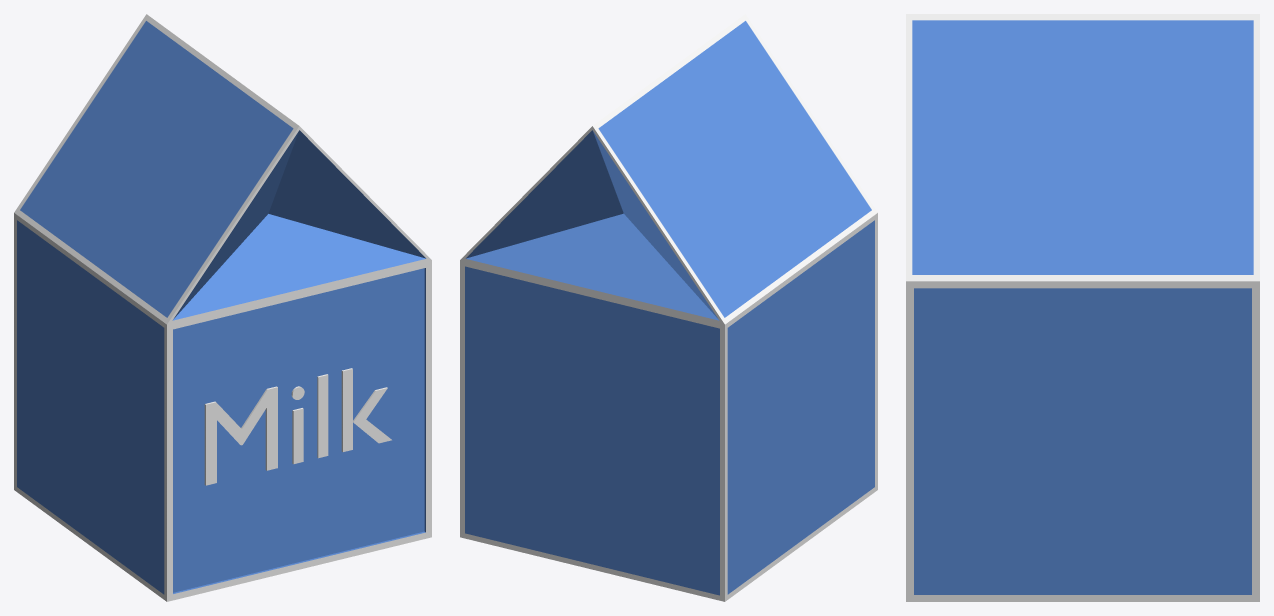
Rendered from MilkCarton.fbx.
The picture shows the model from 3 angles, left to right: view 1: azimuth 30°, elevation 25°; view 2: azimuth 150°, elevation 25°; view 3: azimuth 270°, elevation 25°; orthographic projection. The views are drawn at different scales.
Visible parts, largest first — view 1: Cube, Text; view 2: Cube; view 3: Cube.
Boxes of the visible parts, left/top/right/bottom form: Cube: left=14, top=14, right=431, bottom=601; Text: left=204, top=368, right=391, bottom=485; Cube: left=460, top=14, right=877, bottom=601; Cube: left=906, top=14, right=1259, bottom=601.
Bounding box in the file's own units: 200 × 320 × 200.
